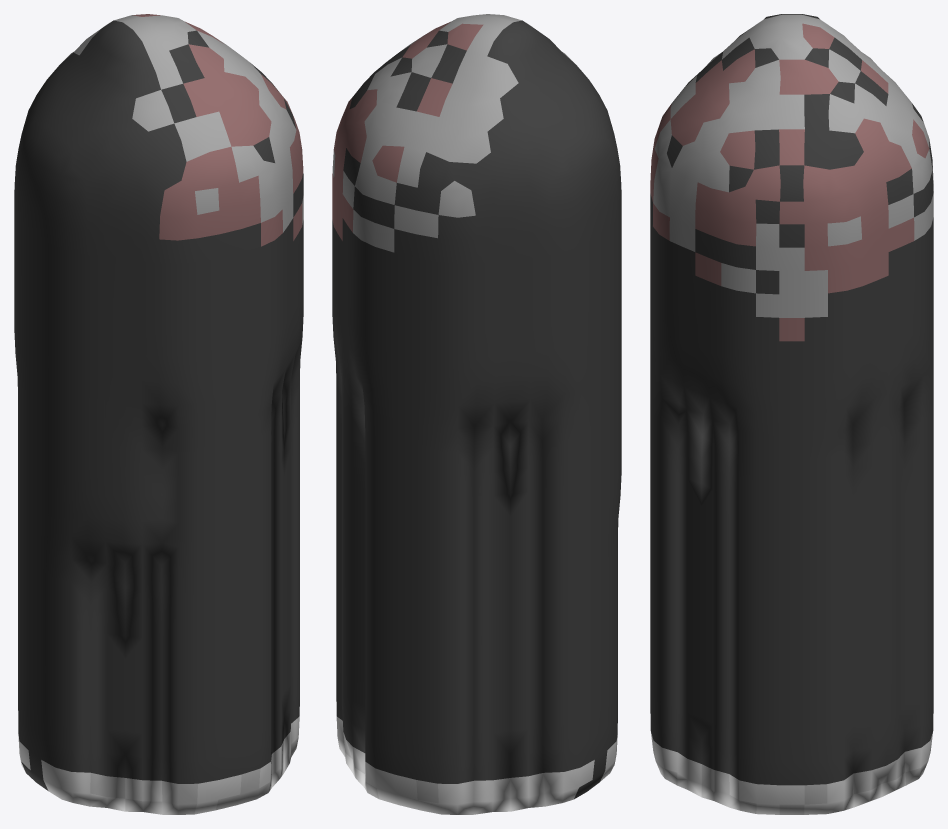
3 views of the same model, side by side, from view 1: azimuth 30°, elevation 25°; view 2: azimuth 150°, elevation 25°; view 3: azimuth 270°, elevation 25° (orthographic).
Bounding box in the file's own units: 0.5484 × 1.56 × 0.5484.
